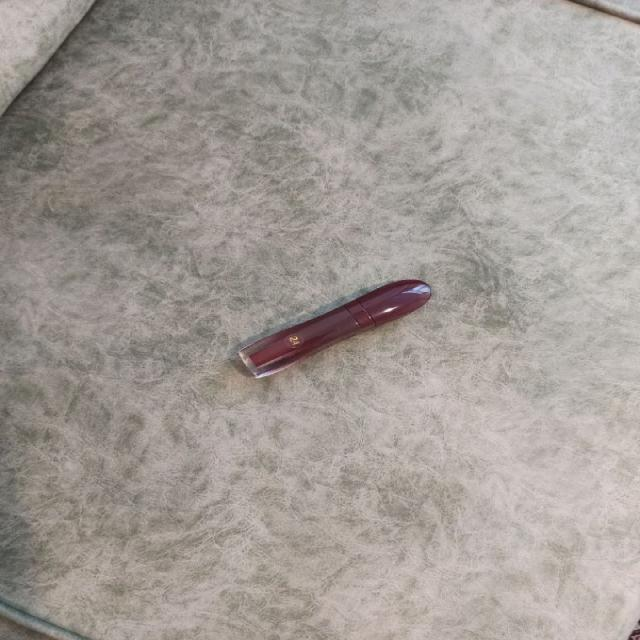lipstick: (236, 278, 432, 379)
